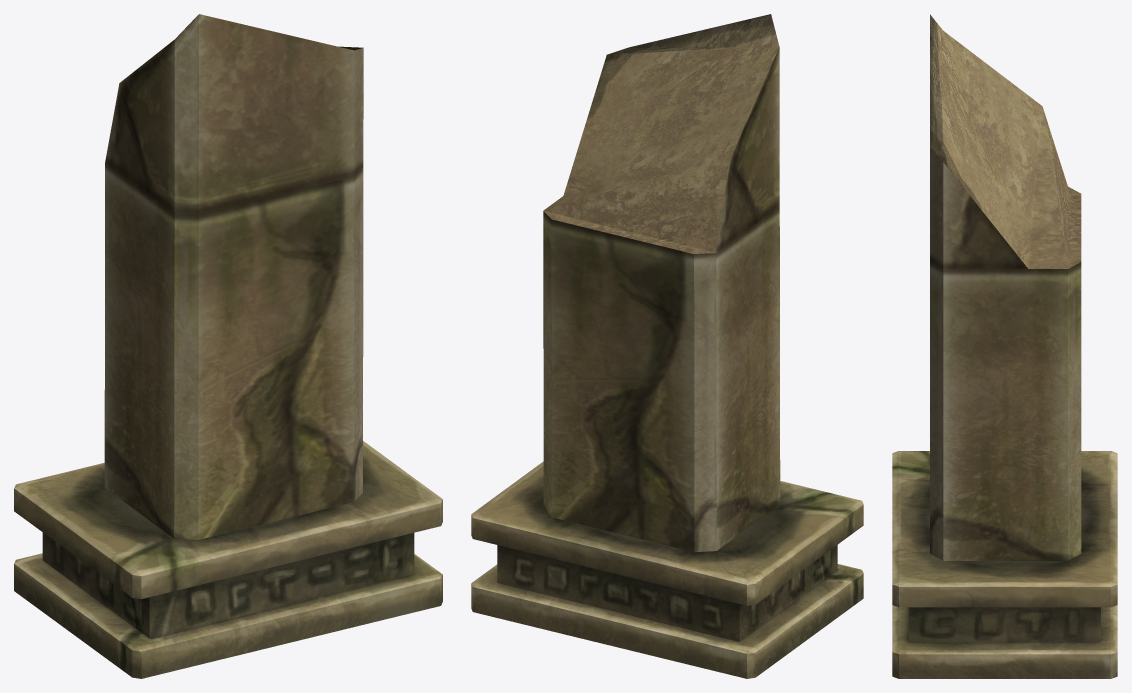
Rendered from column broken.FBX.
3 views of the same model, side by side, from view 1: azimuth 30°, elevation 25°; view 2: azimuth 150°, elevation 25°; view 3: azimuth 270°, elevation 25° (orthographic). The views are drawn at different scales.
Visible parts, largest first — view 1: column broken; view 2: column broken; view 3: column broken.
Boxes of the visible parts, x1,y1,x2,y2 form: column broken: [14, 14, 442, 678]; column broken: [471, 14, 863, 678]; column broken: [892, 14, 1117, 678].
Bounding box in the file's own units: 1.84 × 3.58 × 1.29.
